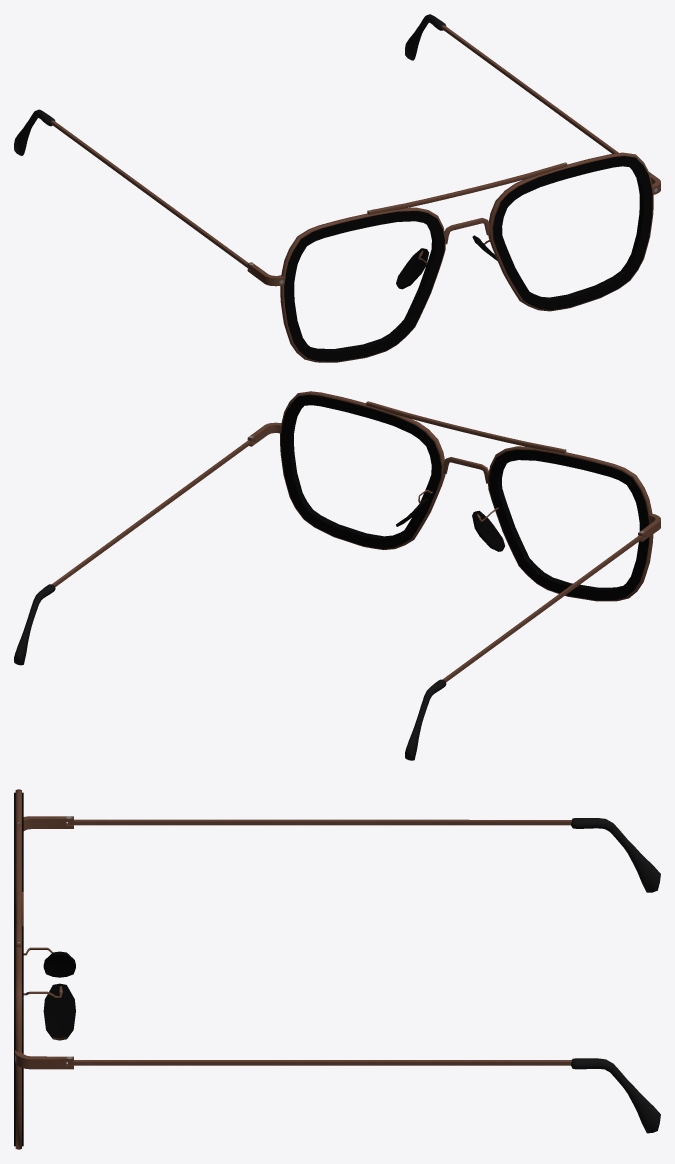
File: glasses44.glb
3 renders of one model, top to bottom at view 1: azimuth 30°, elevation 25°; view 2: azimuth 150°, elevation 25°; view 3: azimuth 270°, elevation 25°, orthographic. The views are drawn at different scales.
Parts seen in each view (by area): view 1: Cube.001; view 2: Cube.001; view 3: Cube.001.
Boxes of the visible parts, left/top/right/bottom form: Cube.001: left=14, top=14, right=660, bottom=362; Cube.001: left=14, top=391, right=660, bottom=760; Cube.001: left=14, top=789, right=660, bottom=1149.
Size of the model in its own units: 2.23 by 0.778 by 2.48.
Materials: 1 (1 with a texture image).
